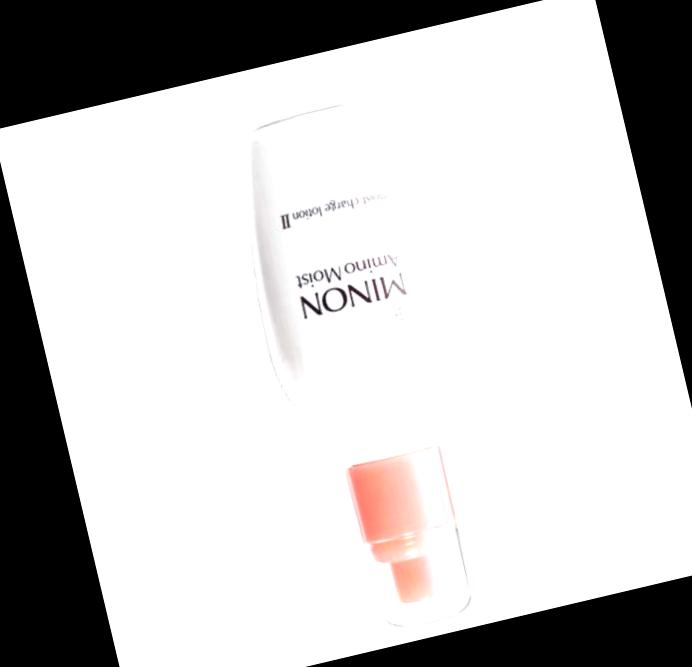cosmetic: (214, 85, 527, 650)
